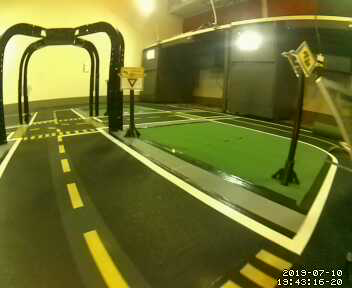Turn Yield: (120, 66, 144, 90)
